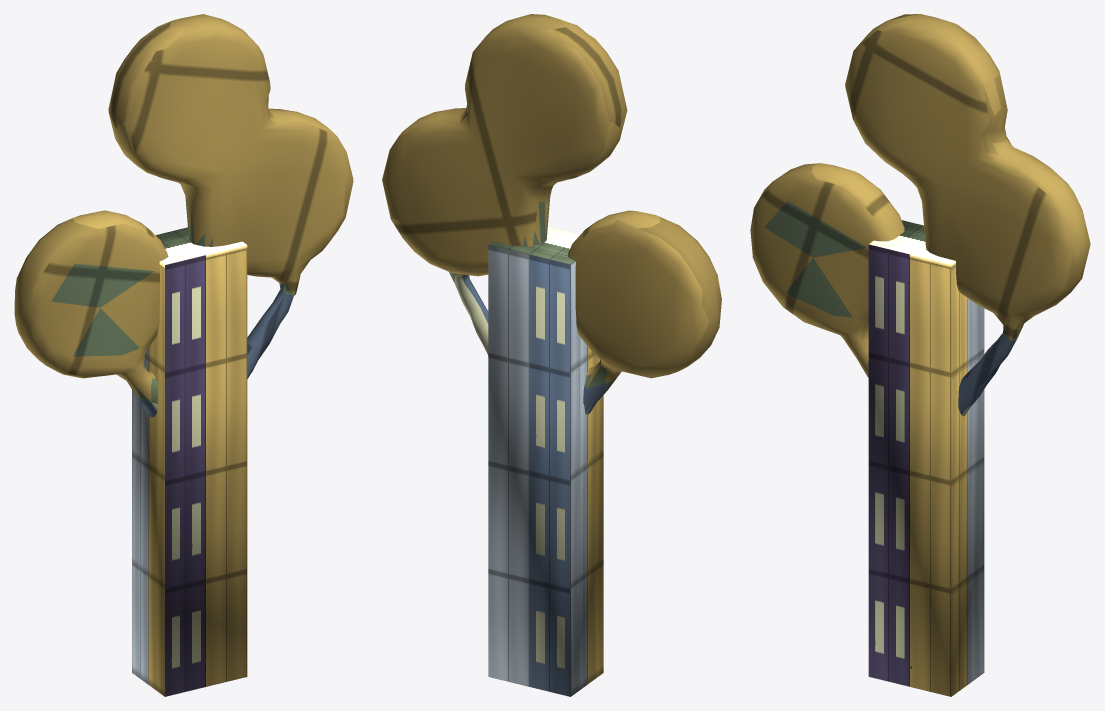
The model's file is robot_tree.glb.
The picture shows the model from 3 angles, left to right: view 1: azimuth 30°, elevation 25°; view 2: azimuth 150°, elevation 25°; view 3: azimuth 330°, elevation 25°; orthographic projection.
Parts seen in each view (by area): view 1: lod0, col; view 2: lod0, col; view 3: lod0, col.
Boxes of the visible parts, <box> form: lod0: <box>14,14,353,668</box>; col: <box>132,227,247,696</box>; lod0: <box>382,14,721,414</box>; col: <box>488,227,603,696</box>; lod0: <box>750,14,1090,668</box>; col: <box>868,220,984,696</box>.
Size of what is drawn, in the model's own units: 2.38 by 4.55 by 0.4161.
2 materials, 2 textured.
